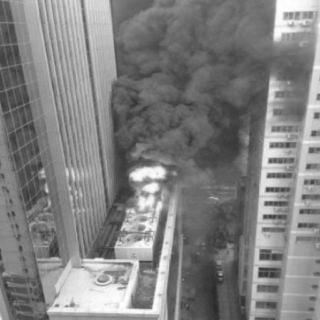Fire: (108, 142, 202, 222)
